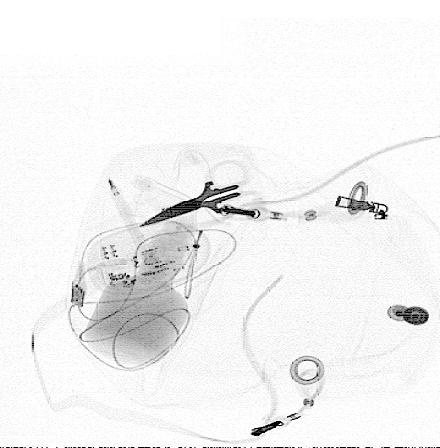Scissors: (134, 156, 271, 230)
